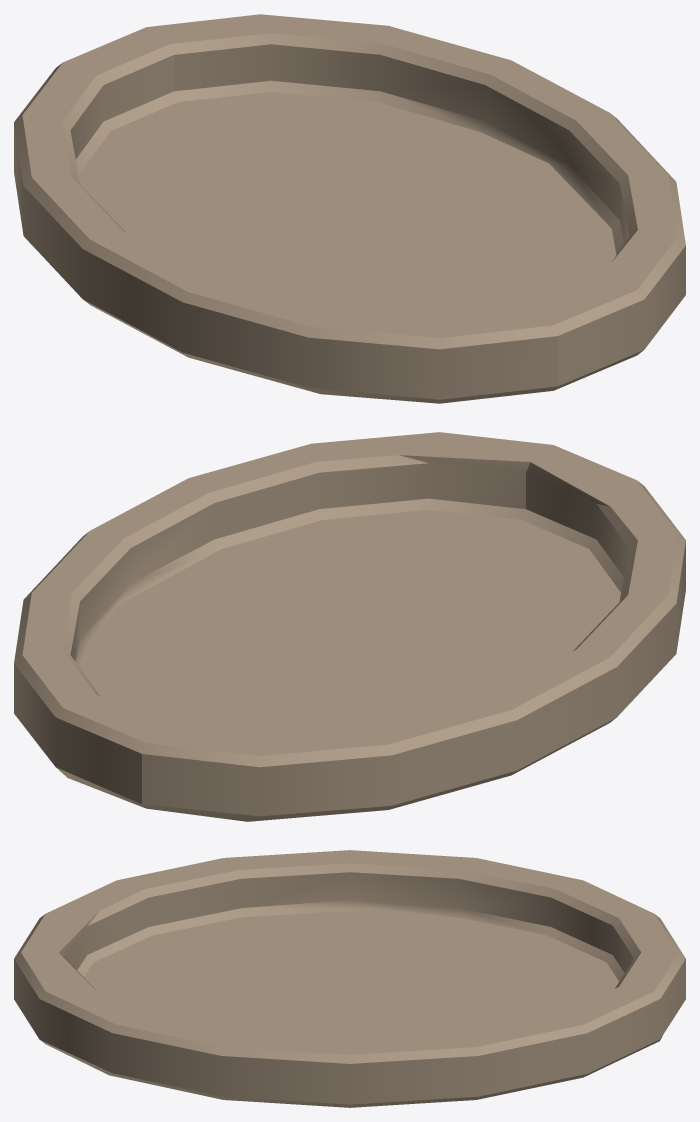
File: sm_round_photo.fbx
The picture shows the model from 3 angles, top to bottom: view 1: azimuth 30°, elevation 25°; view 2: azimuth 150°, elevation 25°; view 3: azimuth 270°, elevation 25°; orthographic projection. The views are drawn at different scales.
Parts seen in each view (by area): view 1: round_photo; view 2: round_photo; view 3: round_photo.
Boxes of the visible parts, x1=… form: round_photo: x1=14, y1=14, x2=685, y2=403; round_photo: x1=14, y1=432, x2=685, y2=821; round_photo: x1=14, y1=850, x2=685, y2=1107.
Bounding box in the file's own units: 94.92 × 11.12 × 128.
